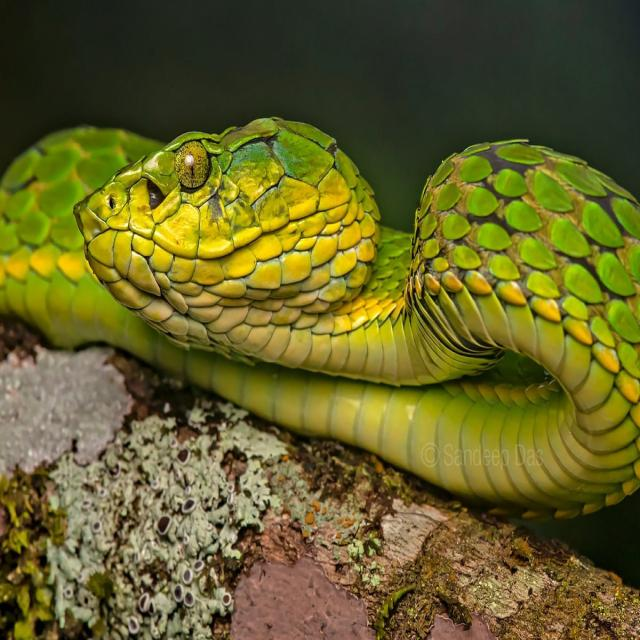Snake: (0, 108, 640, 538)
